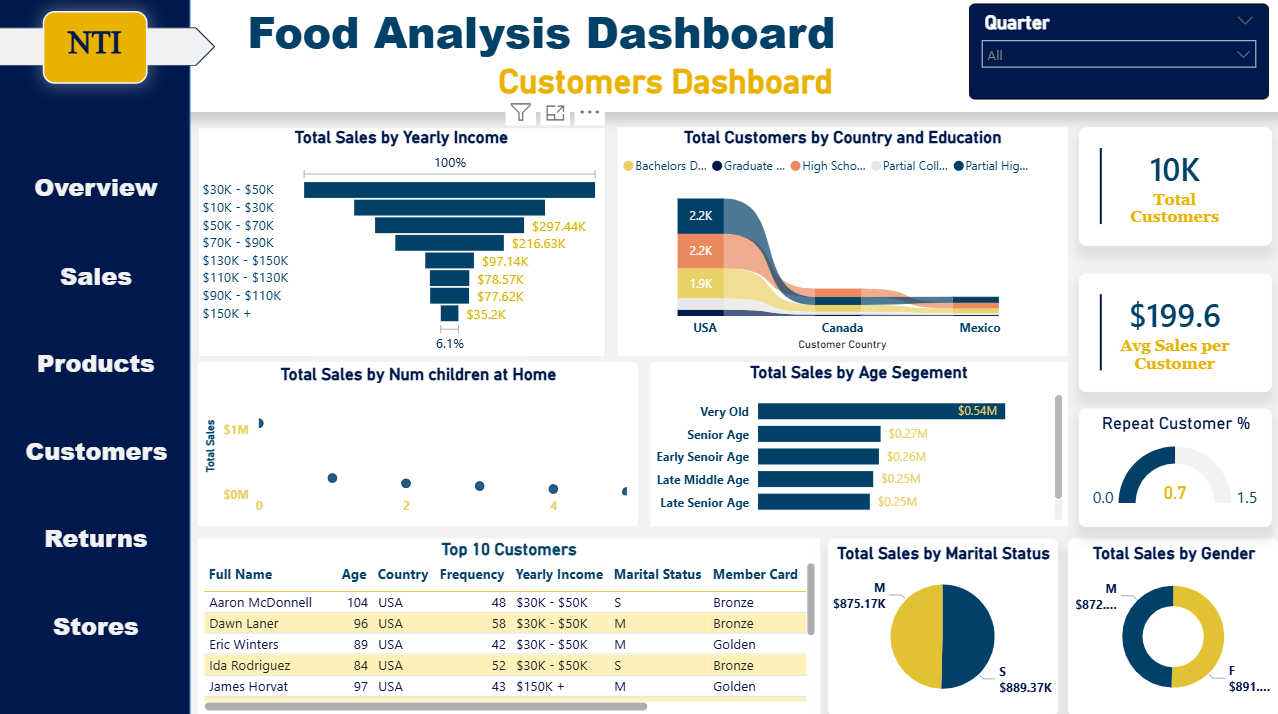

What the dashboard file says about the page in this screenshot:
{"tool":"powerbi","page":{"name":"Customers","canvas":[1280,720],"ordinal":4},"visuals":[{"type":"shape","box":[0,0,191.2,720],"z":0,"group":"g1"},{"type":"textbox","box":[1.2,0,1278.8,116.2],"z":0},{"type":"group","id":"g1","title":"Group 1","box":[0,0,216.2,720],"z":1000},{"type":"shape","box":[0,31.2,216.2,38.8],"z":1000,"group":"g1"},{"type":"textbox","box":[43.8,15,105,72.5],"z":2000,"group":"g1"},{"type":"scatterChart","fields":{"Y":["Sales.Total Sales"],"X":["Customers.Num children at Home"]},"box":[198.8,366.2,440,163.8],"z":2000},{"type":"cardVisual","fields":{"Data":["Customers.Total Customers"]},"box":[1080,131.2,192.5,118.8],"z":3000},{"type":"actionButton","title":"Overview","box":[30.2,149.3,133.8,83.8],"z":3000,"group":"g1"},{"type":"actionButton","title":"Overview","box":[30.2,237,133.8,83.8],"z":4000,"group":"g1"},{"type":"cardVisual","fields":{"Data":["Sales.Avg Sales per Customer"]},"box":[1080,277.5,192.5,118.8],"z":4000},{"type":"pieChart","fields":{"Category":["Customers.Marital Status"],"Y":["Sales.Total Sales"]},"box":[305,191.2,236.2,150],"z":5000},{"type":"actionButton","title":"Overview","box":[30.2,324.8,133.8,83.8],"z":5000,"group":"g1"},{"type":"actionButton","title":"Overview","box":[19.6,412.5,155,83.8],"z":6000,"group":"g1"},{"type":"donutChart","fields":{"Y":["Sales.Total Sales"],"Category":["Customers.Gender"]},"box":[1068.8,542.5,211.2,177.5],"z":6000},{"type":"clusteredBarChart","fields":{"Category":["Customers.Age Segement"],"Y":["Sales.Total Sales"]},"box":[651.2,366.2,417.5,163.8],"z":7000},{"type":"actionButton","title":"Overview","box":[30.2,500.3,133.8,83.8],"z":7000,"group":"g1"},{"type":"funnel","fields":{"Category":["Customers.Yearly Income"],"Y":["Sales.Total Sales"]},"box":[198.8,131.2,407.5,230],"z":8000},{"type":"actionButton","title":"Overview","box":[30.2,588,133.8,83.8],"z":8000,"group":"g1"},{"type":"ribbonChart","title":"Total Customers by Country and Education","fields":{"Category":["Customers.Customer Country"],"Y":["Customers.Total Customers"],"Series":["Customers.Education"]},"box":[618.8,131.2,450,228.8],"z":9000},{"type":"gauge","fields":{"Y":["Customers.Repeat Customer %"]},"box":[1080,412.5,192.5,118.8],"z":10000},{"type":"slicer","fields":{"Values":["Calendar.date.Variation.Date Hierarchy.Quarter"]},"box":[970,7.5,300,96.2],"z":11000},{"type":"tableEx","title":"Top 10 Customers","fields":{"Values":["Customers.Full Name","Customers.Age","Customers.Customer Country","Customers.Frequency","Customers.Yearly Income","Customers.Marital Status","Customers.Member Card","Customers.Homeowner","Customers.Education"]},"box":[198.8,542.5,622.5,177.5],"z":12000},{"type":"pieChart","fields":{"Y":["Sales.Total Sales"],"Category":["Customers.Marital Status"]},"box":[828.8,542.5,230,177.5],"z":13000}]}

Visuals, with their boxes in screenshot pixels (x1, y1, x2, y2), scaled from the page's 1280x720 canvas onto the 1278x714 screenshot:
shape: bbox=[0, 0, 191, 713]
textbox: bbox=[1, 0, 1277, 115]
"Group 1" group: bbox=[0, 0, 216, 713]
shape: bbox=[0, 31, 216, 69]
textbox: bbox=[44, 15, 149, 87]
scatterChart - Sales.Total Sales x Customers.Num children at Home: bbox=[198, 363, 638, 526]
cardVisual - Customers.Total Customers: bbox=[1078, 130, 1271, 248]
"Overview" actionButton: bbox=[30, 148, 164, 231]
"Overview" actionButton: bbox=[30, 235, 164, 318]
cardVisual - Sales.Avg Sales per Customer: bbox=[1078, 275, 1271, 393]
pieChart - Customers.Marital Status x Sales.Total Sales: bbox=[305, 190, 540, 338]
"Overview" actionButton: bbox=[30, 322, 164, 405]
"Overview" actionButton: bbox=[20, 409, 174, 492]
donutChart - Sales.Total Sales x Customers.Gender: bbox=[1067, 538, 1277, 713]
clusteredBarChart - Customers.Age Segement x Sales.Total Sales: bbox=[650, 363, 1067, 526]
"Overview" actionButton: bbox=[30, 496, 164, 579]
funnel - Customers.Yearly Income x Sales.Total Sales: bbox=[198, 130, 605, 358]
"Overview" actionButton: bbox=[30, 583, 164, 666]
"Total Customers by Country and Education" ribbonChart: bbox=[618, 130, 1067, 357]
gauge - Customers.Repeat Customer %: bbox=[1078, 409, 1271, 527]
slicer - Calendar.date.Variation.Date Hierarchy.Quarter: bbox=[968, 7, 1268, 103]
"Top 10 Customers" tableEx: bbox=[198, 538, 820, 713]
pieChart - Sales.Total Sales x Customers.Marital Status: bbox=[828, 538, 1057, 713]
